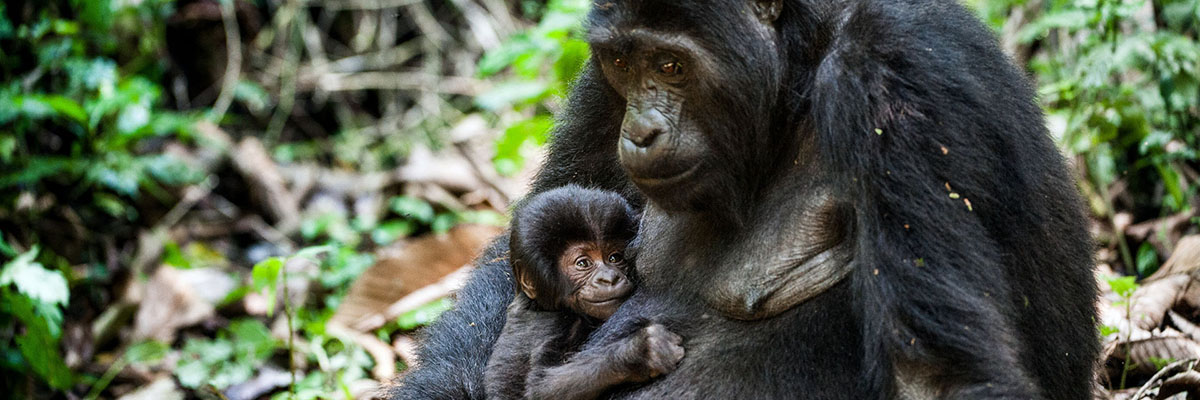Goriila: (559, 13, 1142, 398)
